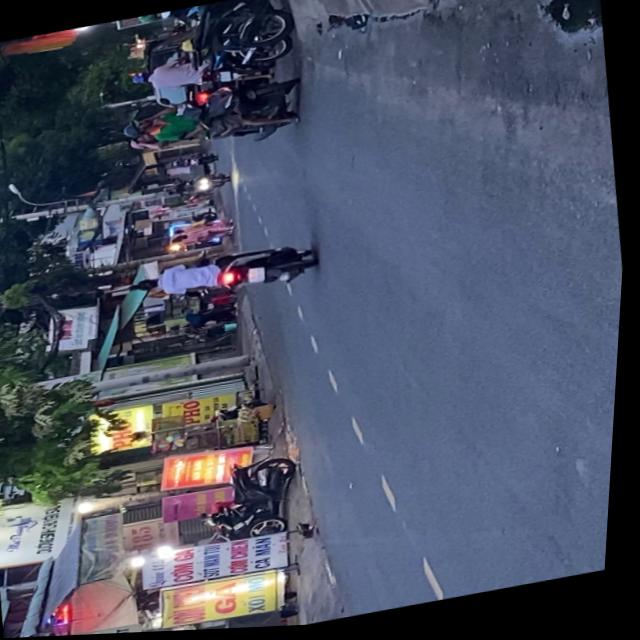helmet: (122, 117, 157, 140), (129, 133, 162, 152)
licenseplate: (117, 75, 309, 165), (132, 239, 322, 312)
motorcyclist: (137, 277, 164, 295)
nohelmet: (250, 269, 269, 286), (219, 72, 233, 84)
